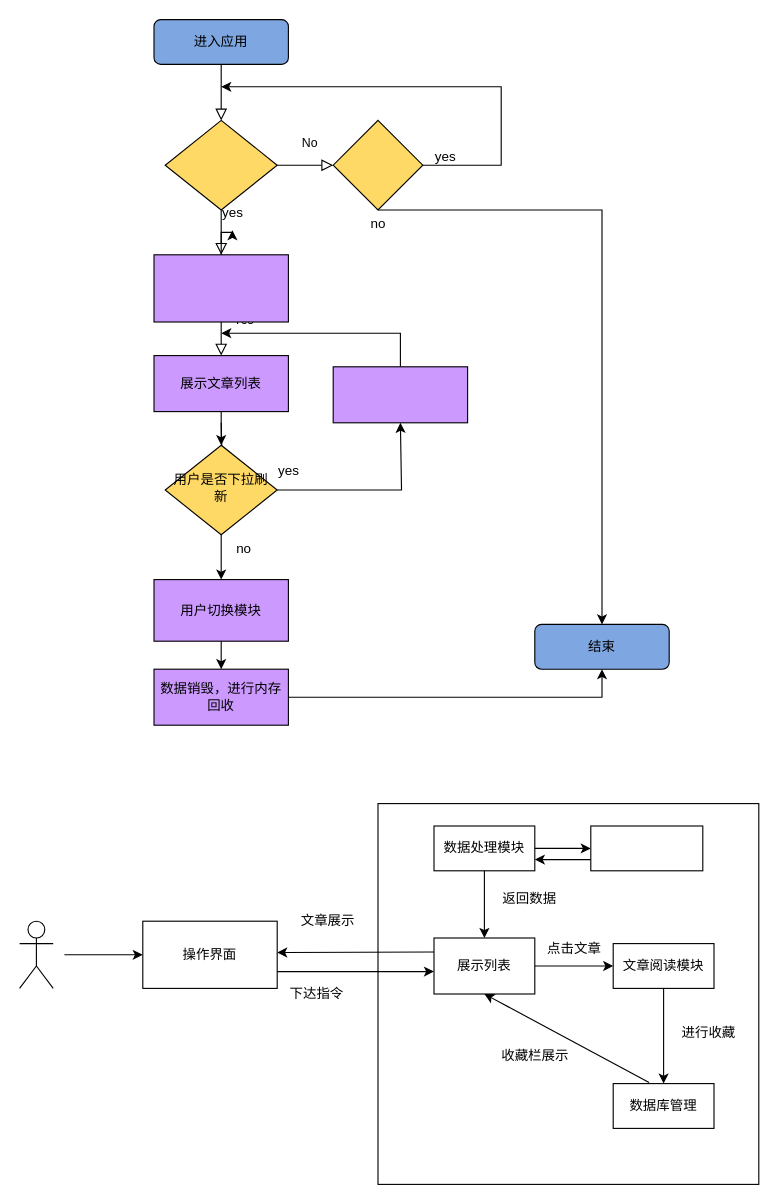
The diagram is 778 pixels wide and 1204 high, and some of its shapes have lost their labels. Each missing label, with the box of its shape:
Actor: (18, 920, 53, 988)
数据获取: (332, 366, 468, 423)
数据获取模块: (590, 825, 703, 871)
数据预加载缓存: (153, 254, 288, 322)
检查网络连接: (164, 119, 277, 210)
申请网络连接: (332, 119, 423, 210)
